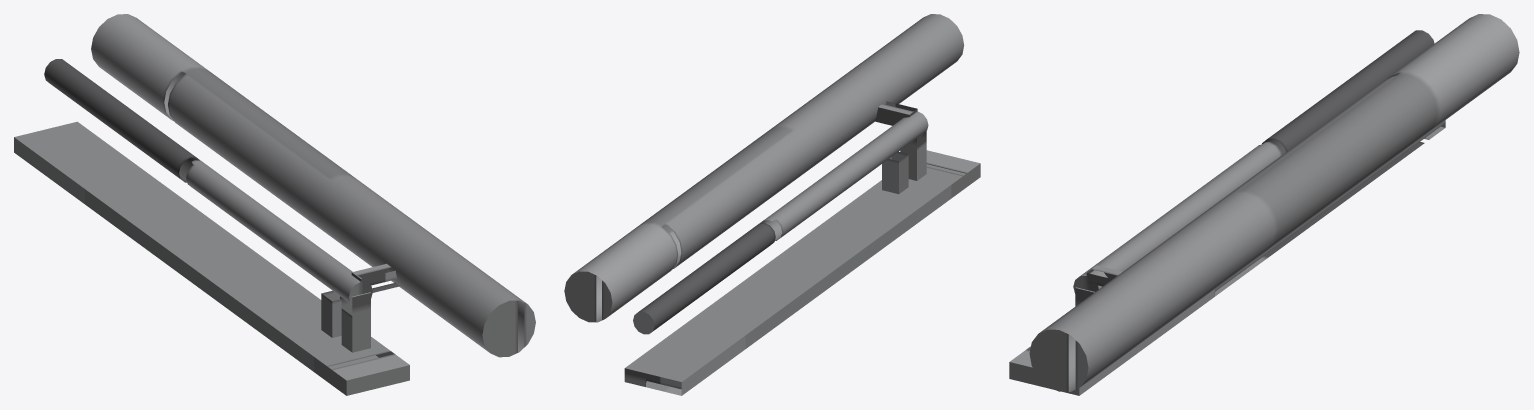
The picture shows the model from 3 angles, left to right: view 1: azimuth 30°, elevation 25°; view 2: azimuth 150°, elevation 25°; view 3: azimuth 330°, elevation 25°; orthographic projection. The views are drawn at different scales.
Size of the model in its own units: 0.4875 by 0.4025 by 2.53.
